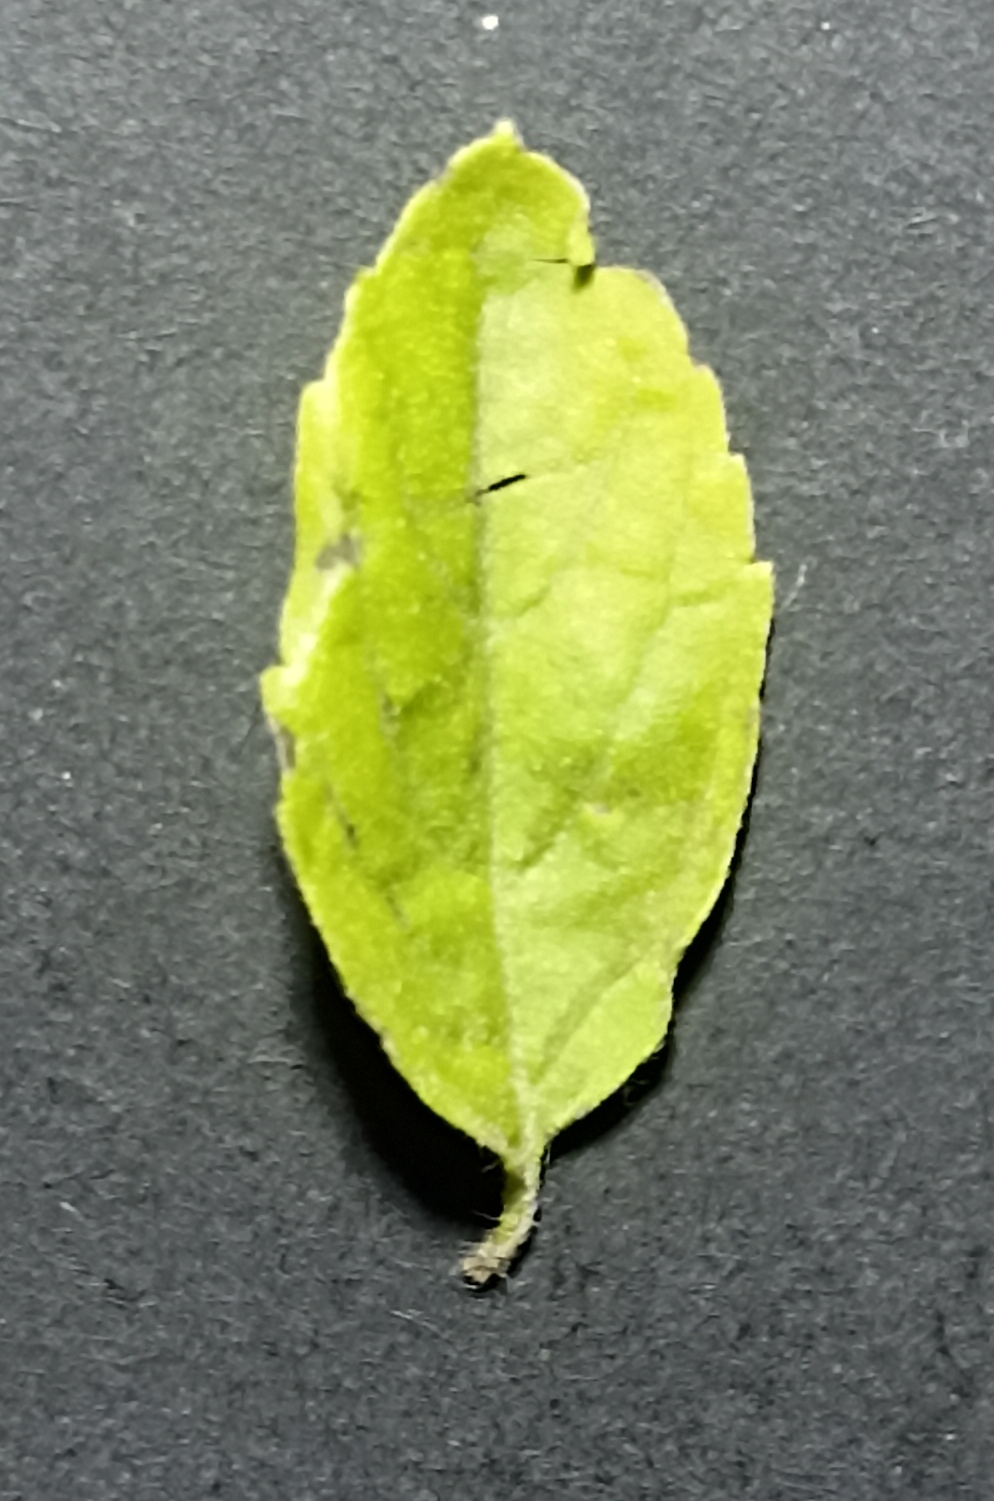Healthy: (252, 87, 782, 1138)
